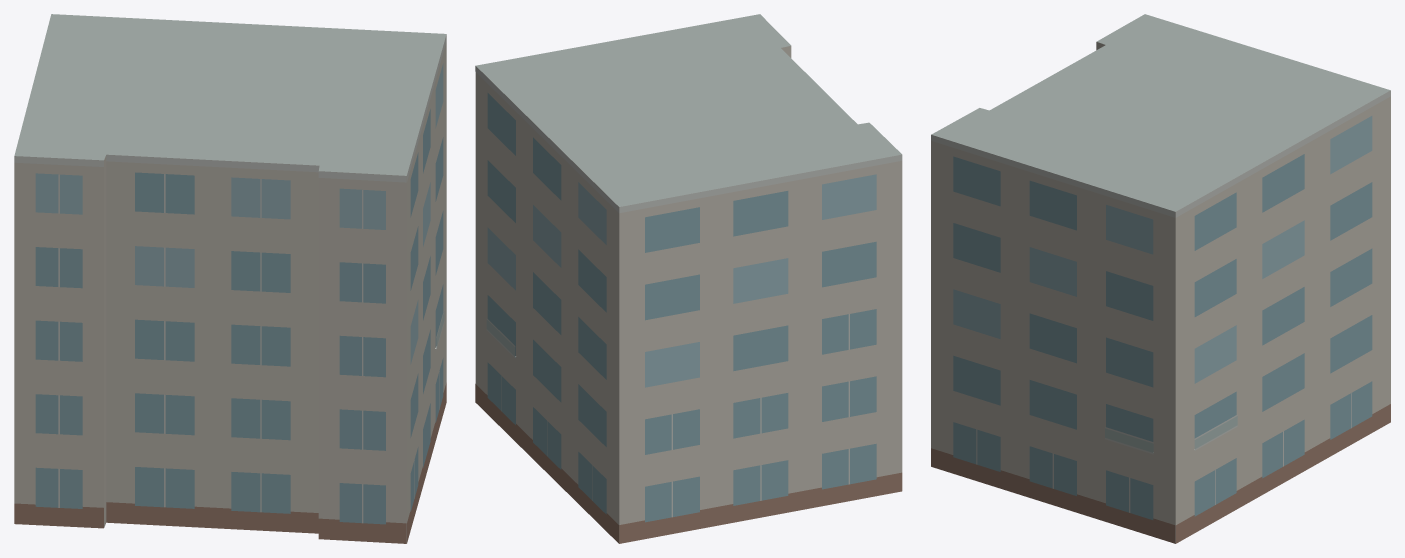
The model's file is survey-upis-33043777.glb.
3 views of the same model, side by side, from view 1: azimuth 30°, elevation 25°; view 2: azimuth 150°, elevation 25°; view 3: azimuth 270°, elevation 25° (orthographic). The views are drawn at different scales.
Visible parts, largest first — view 1: survey-upis-33043777.tmp; view 2: survey-upis-33043777.tmp; view 3: survey-upis-33043777.tmp.
Part boxes in pixels (x1,y1,x2,y2): survey-upis-33043777.tmp: (14, 14, 446, 543); survey-upis-33043777.tmp: (475, 14, 902, 543); survey-upis-33043777.tmp: (931, 14, 1390, 543).
Bounding box in the file's own units: 17.13 × 13.4 × 16.82.
